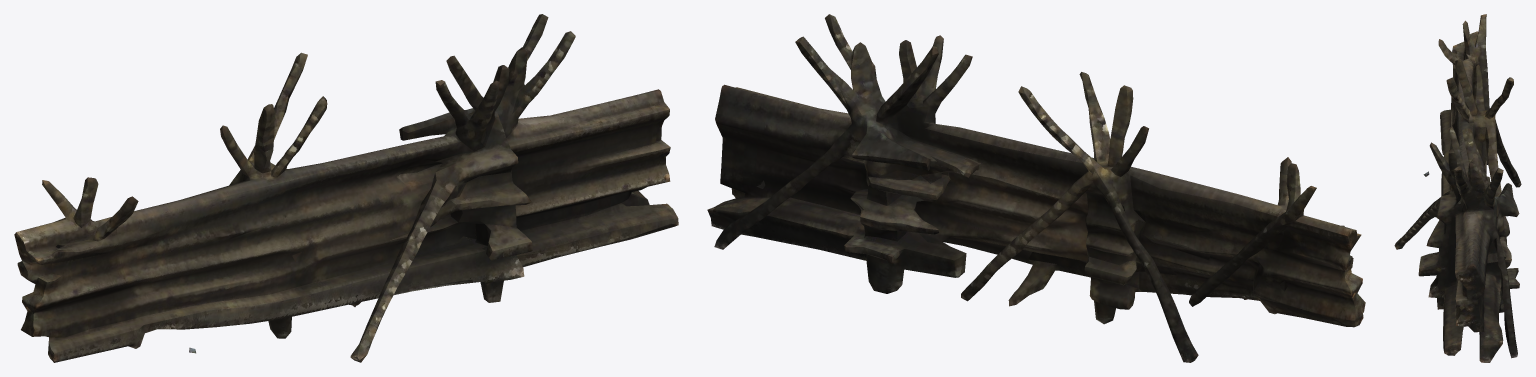
3 views of the same model, side by side, from view 1: azimuth 30°, elevation 25°; view 2: azimuth 150°, elevation 25°; view 3: azimuth 270°, elevation 25° (orthographic). The views are drawn at different scales.
Visible parts, largest first — view 1: fence-split-rail; view 2: fence-split-rail; view 3: fence-split-rail.
Boxes of the visible parts, x1=… form: fence-split-rail: x1=14, y1=14, x2=678, y2=362; fence-split-rail: x1=707, y1=14, x2=1365, y2=362; fence-split-rail: x1=1394, y1=14, x2=1521, y2=362.
Size of the model in its own units: 3.23 by 1.2 by 0.7672.
1 material, 1 textured.
